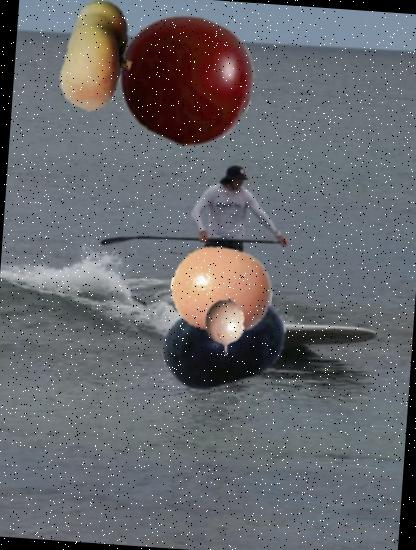Blueberry: (156, 272, 290, 406)
Cherry: (113, 6, 259, 152)
Granadilla: (194, 297, 256, 358)
Grapefruit: (166, 237, 276, 346)
Peach: (38, 0, 159, 117)
